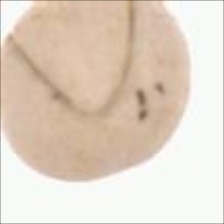L5: (7, 1, 143, 121)
L6: (1, 1, 193, 187)
